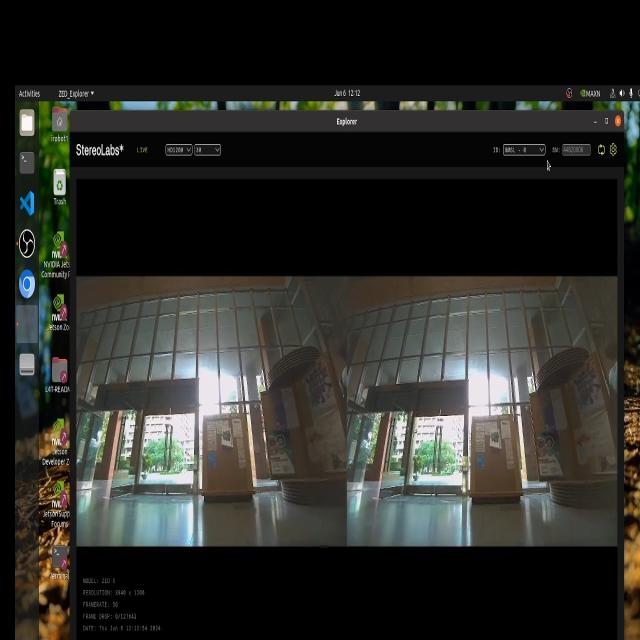green: (488, 428, 501, 455), (220, 423, 232, 449)
